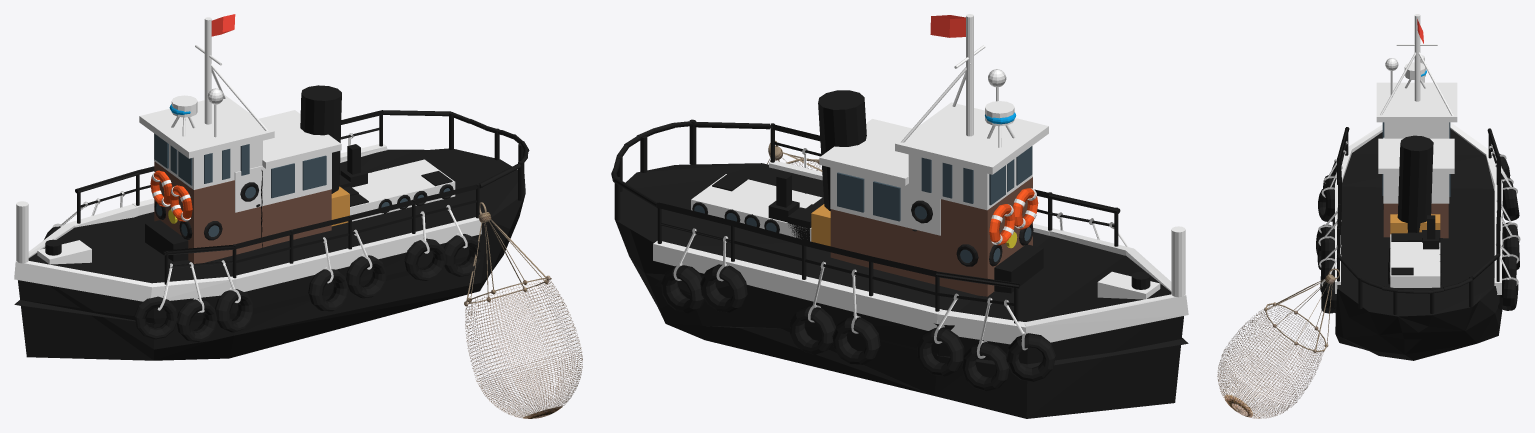
The model's file is TugBoatWithNet.glb.
The picture shows the model from 3 angles, left to right: view 1: azimuth 30°, elevation 25°; view 2: azimuth 150°, elevation 25°; view 3: azimuth 270°, elevation 25°; orthographic projection. The views are drawn at different scales.
Visible parts, largest first — view 1: group1483103472, Object_3; view 2: group1483103472; view 3: group1483103472, Object_3.
Part boxes in pixels (bbox=[...]): group1483103472: bbox=[14, 14, 529, 360]; Object_3: bbox=[464, 202, 582, 418]; group1483103472: bbox=[611, 14, 1188, 418]; group1483103472: bbox=[1316, 14, 1520, 360]; Object_3: bbox=[1217, 268, 1339, 418].
Bounding box in the file's own units: 4.59 × 3.34 × 2.96.
11 materials, 2 textured.
